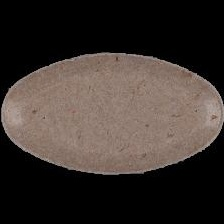50436-6357: (0, 0, 224, 224)
